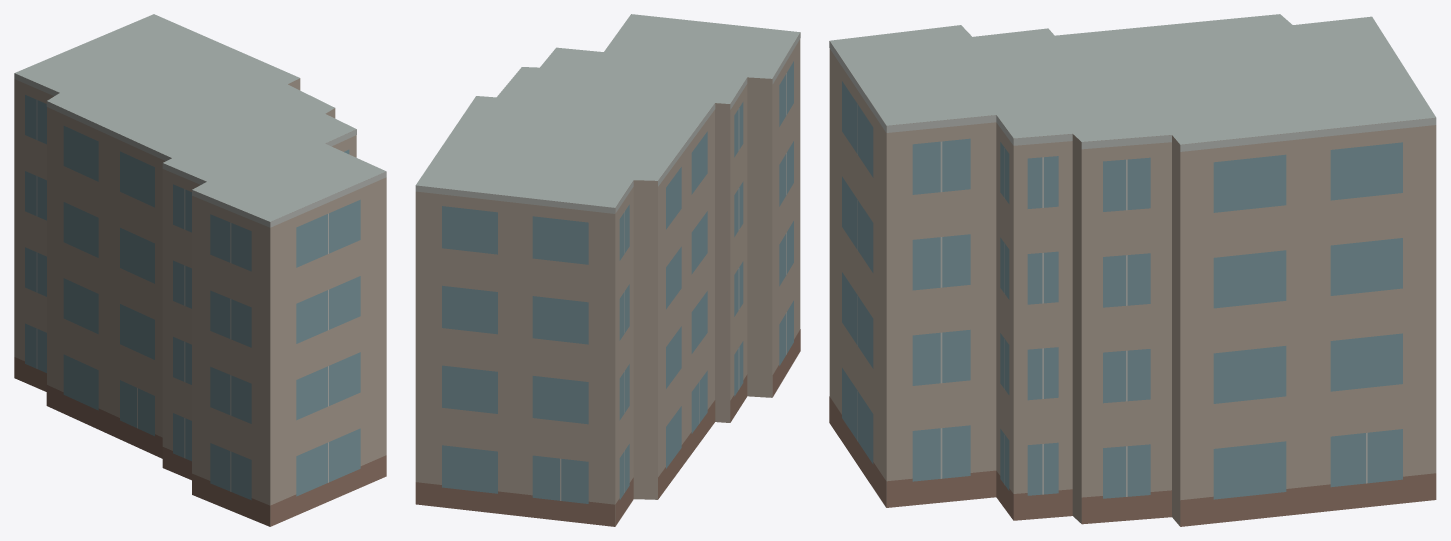
File: survey-upis-32614929.glb
The picture shows the model from 3 angles, left to right: view 1: azimuth 30°, elevation 25°; view 2: azimuth 150°, elevation 25°; view 3: azimuth 270°, elevation 25°; orthographic projection. The views are drawn at different scales.
Visible parts, largest first — view 1: survey-upis-32614929.tmp; view 2: survey-upis-32614929.tmp; view 3: survey-upis-32614929.tmp.
Boxes of the visible parts, left/top/right/bottom form: survey-upis-32614929.tmp: left=14, top=14, right=386, bottom=526; survey-upis-32614929.tmp: left=415, top=14, right=800, bottom=526; survey-upis-32614929.tmp: left=829, top=14, right=1436, bottom=526.
Bounding box in the file's own units: 9.32 × 12.7 × 18.28.
